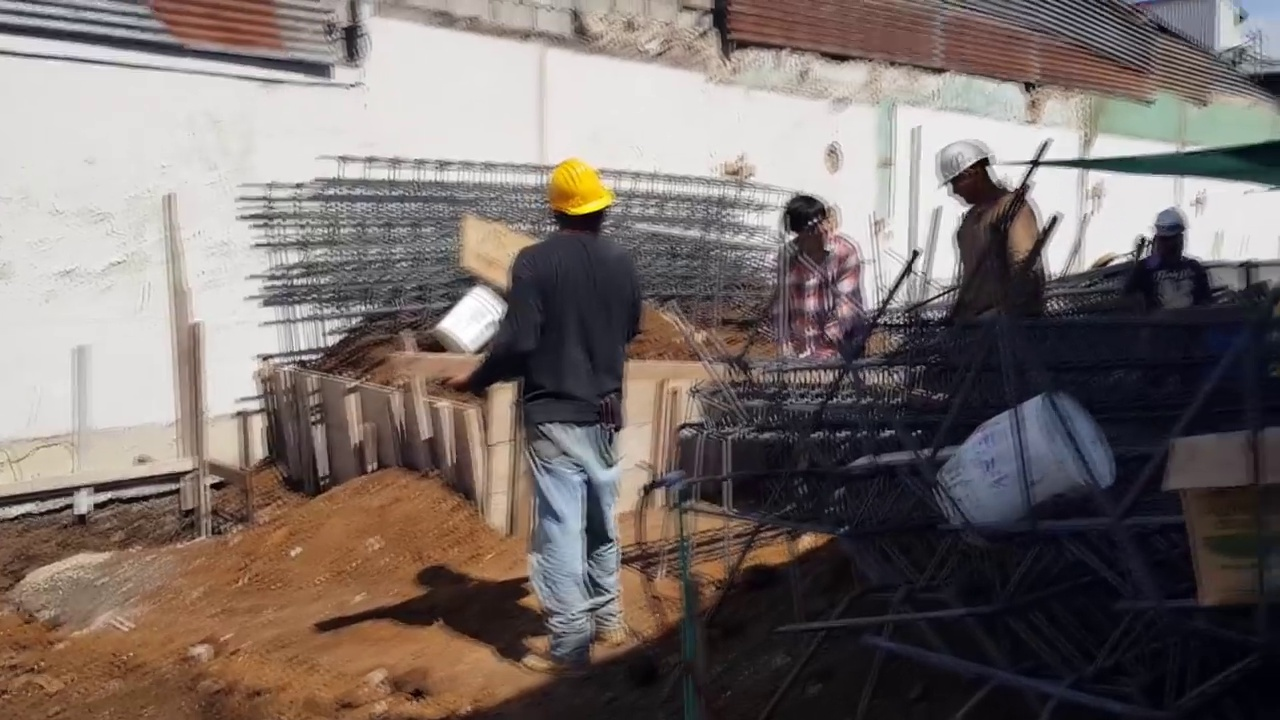helmet: (543, 158, 614, 215), (934, 137, 987, 185), (1154, 210, 1191, 235)
helmet-off: (780, 185, 833, 259)
helmet-on: (542, 157, 616, 244), (942, 135, 1018, 211), (1153, 208, 1193, 257)
person: (429, 148, 640, 681), (933, 122, 1051, 330), (778, 181, 870, 367), (1136, 210, 1213, 316)
